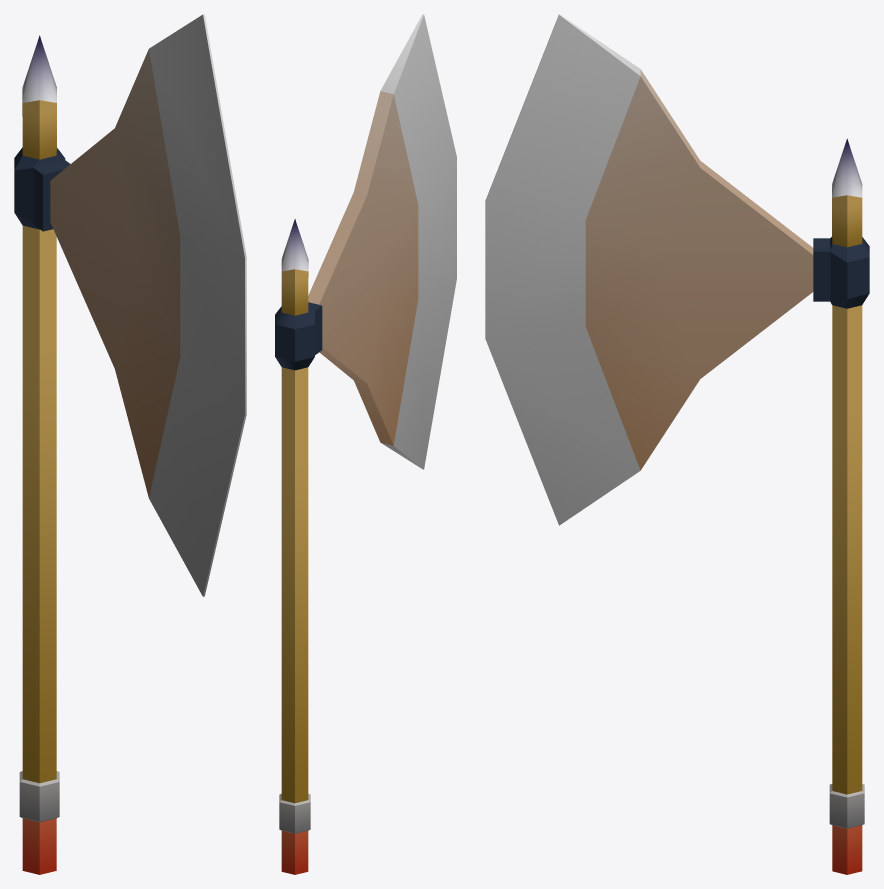
Rendered from Hacha.fbx.
3 renders of one model, left to right at view 1: azimuth 30°, elevation 25°; view 2: azimuth 150°, elevation 25°; view 3: azimuth 270°, elevation 25°, orthographic. The views are drawn at different scales.
Parts seen in each view (by area): view 1: pCylinder1; view 2: pCylinder1; view 3: pCylinder1.
Part boxes in pixels (<box>): pCylinder1: <box>14,14,246,874</box>; pCylinder1: <box>275,14,456,874</box>; pCylinder1: <box>485,14,869,874</box>.
Bounding box in the file's own units: 40.4 × 735 × 300.
